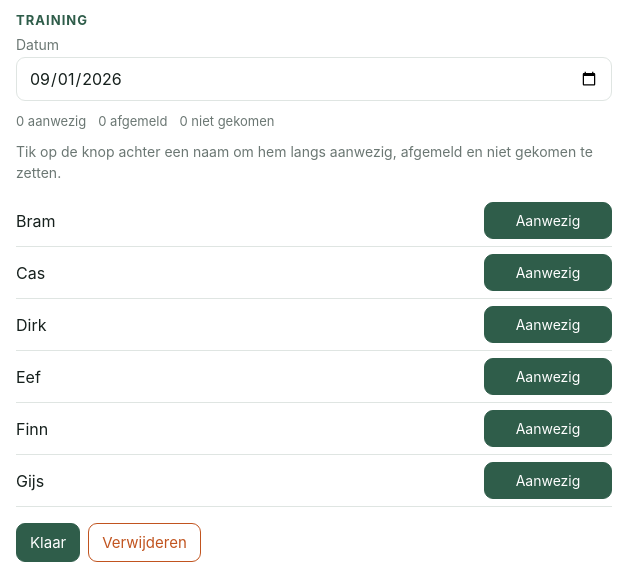
Test: één training › telt mee terwijl je langsloopt
The width and height of the screenshot is (629, 579).
Click the button "Aanwezig" in the row of "Bram": coordinates (548, 220) [484, 202, 612, 239]
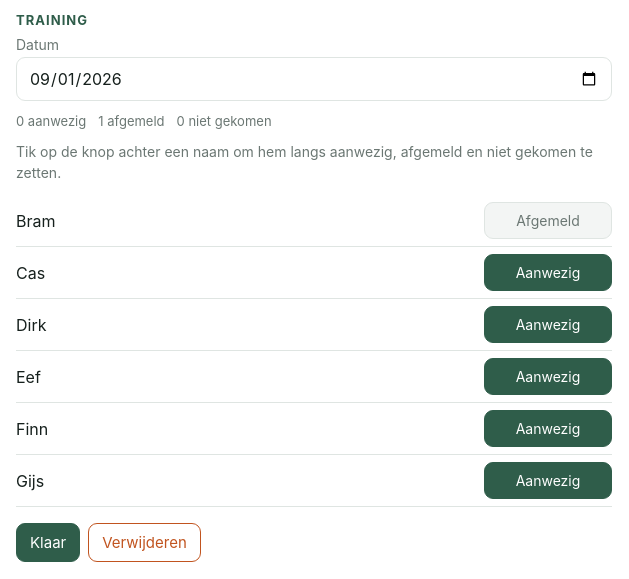
Expected: the element with class "telling" shows "1 afgemeld", [98, 113, 164, 129]
